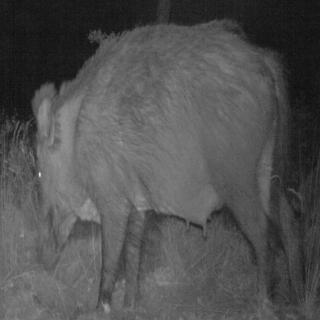Pig: (30, 26, 299, 311)
